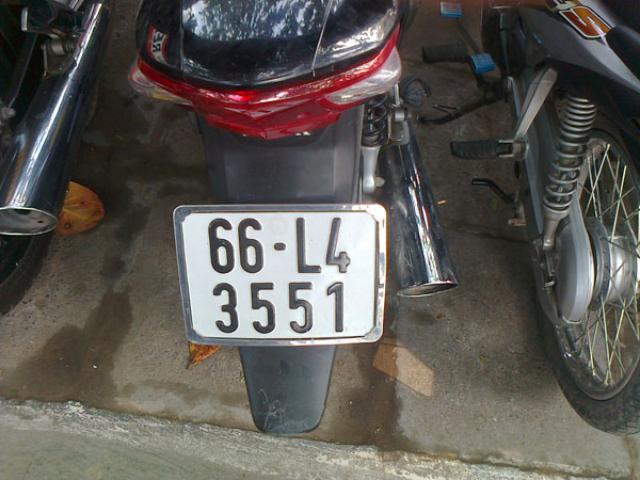plate: (184, 206, 388, 347)
